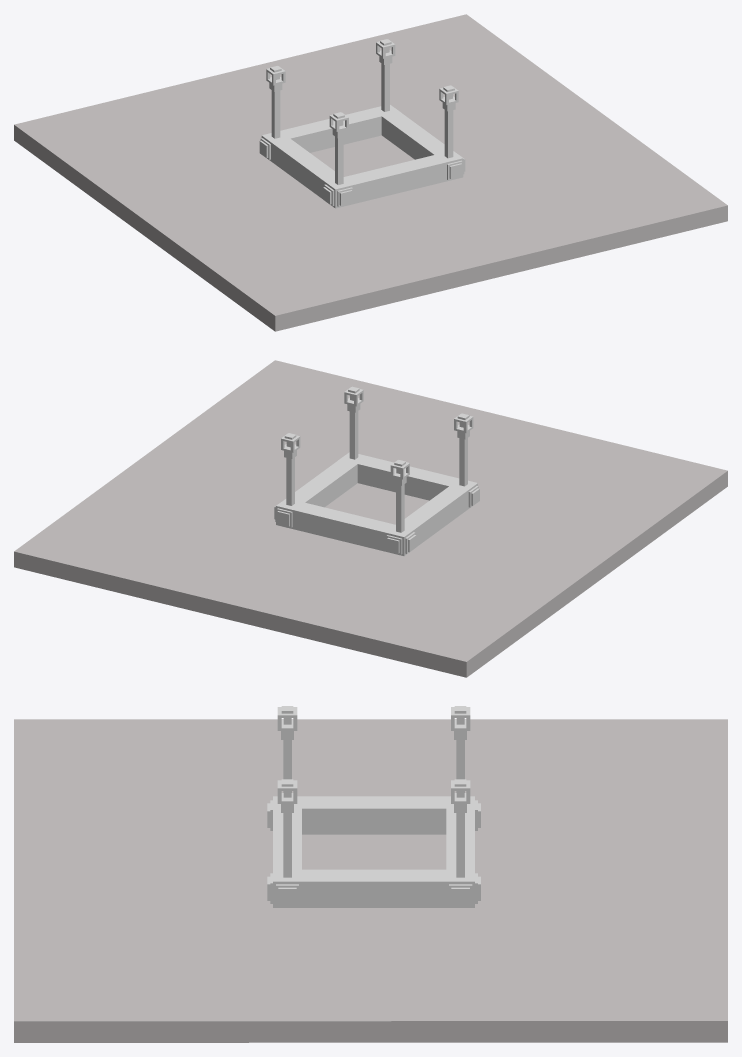
Rendered from Hub Zone.fbx.
3 views of the same model, one above another, from view 1: azimuth 30°, elevation 25°; view 2: azimuth 150°, elevation 25°; view 3: azimuth 270°, elevation 25° (orthographic). The views are drawn at different scales.
Visible parts, largest first — view 1: Central Hall, Reception; view 2: Central Hall, Reception; view 3: Central Hall, Reception.
Boxes of the visible parts, x1,y1,x2,y2 form: Central Hall: (14,14,727,331); Reception: (259,39,465,208); Central Hall: (14,360,727,677); Reception: (274,386,479,555); Central Hall: (14,719,727,1042); Reception: (267,706,480,907).
Bounding box in the file's own units: 4952 × 1085 × 4950.
